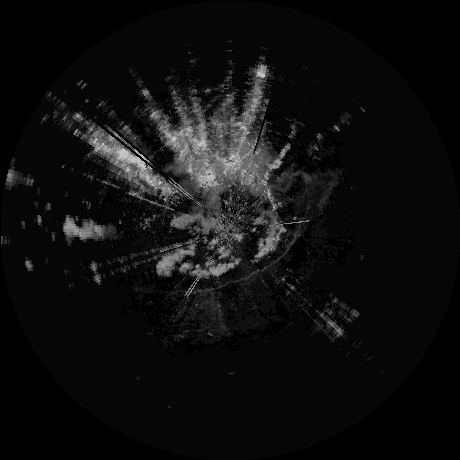frontgust: (166, 220, 305, 296)
